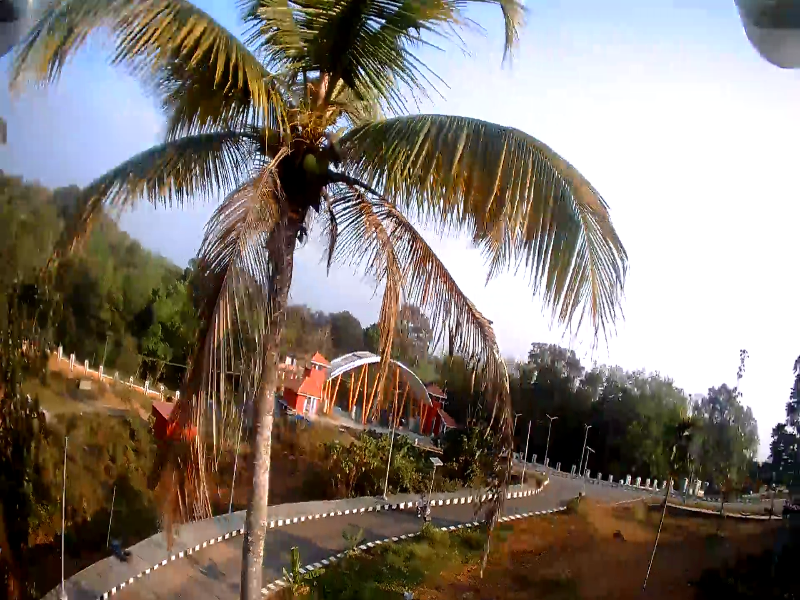coconut: (296, 147, 315, 174)
